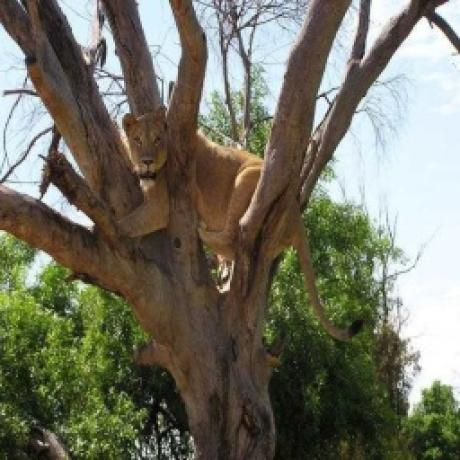Lion: (121, 102, 374, 339)
